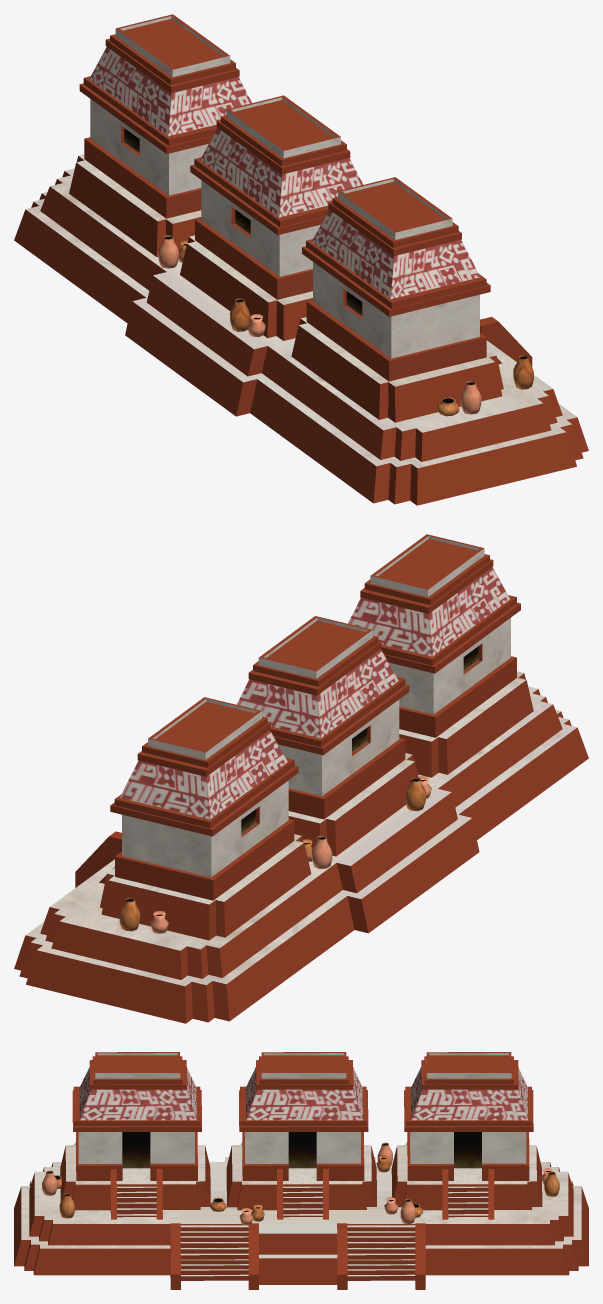
Rendered from piramide_tri_1.dae.
3 renders of one model, top to bottom at view 1: azimuth 30°, elevation 25°; view 2: azimuth 150°, elevation 25°; view 3: azimuth 270°, elevation 25°, orthographic. The views are drawn at different scales.
Visible parts, largest first — view 1: tria_1; view 2: tria_1; view 3: tria_1.
Part boxes in pixels (box(x1,y1,x2,y2)): tria_1: box(14, 14, 588, 505); tria_1: box(14, 534, 588, 1023); tria_1: box(14, 1052, 588, 1289).
Size of the model in its own units: 14.84 by 37.47 by 12.19.
